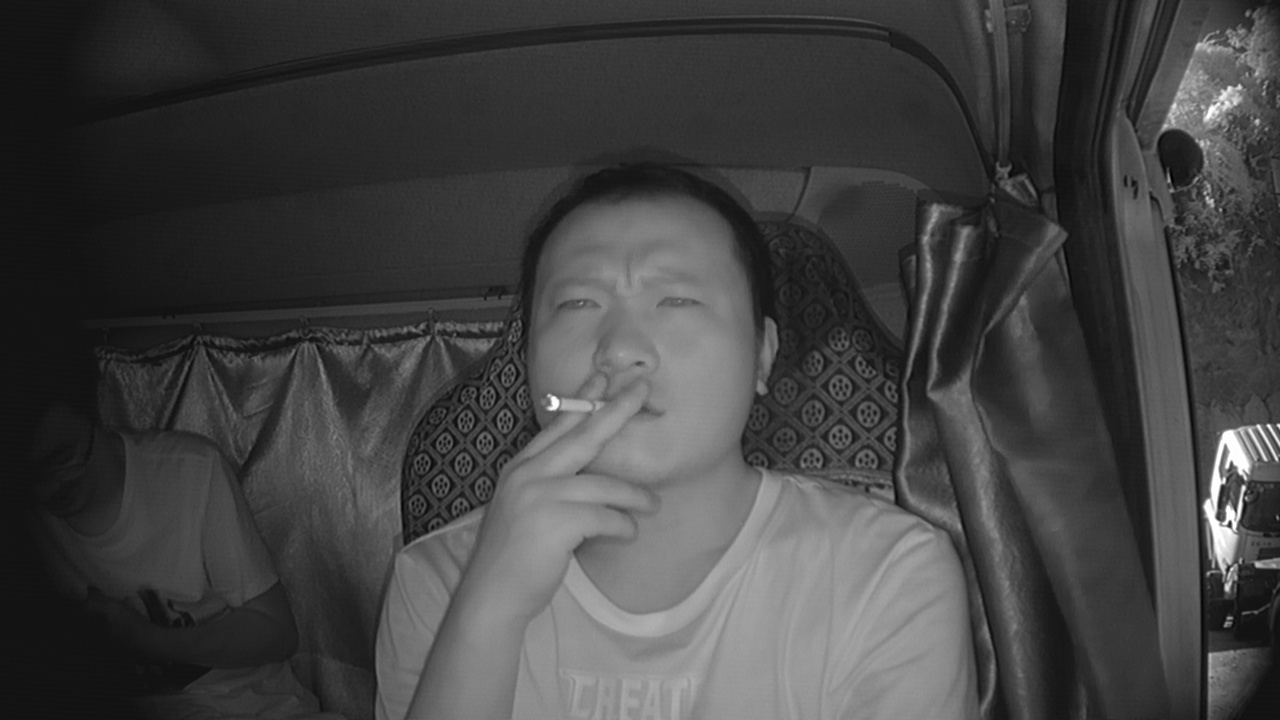hand: (502, 370, 667, 580)
